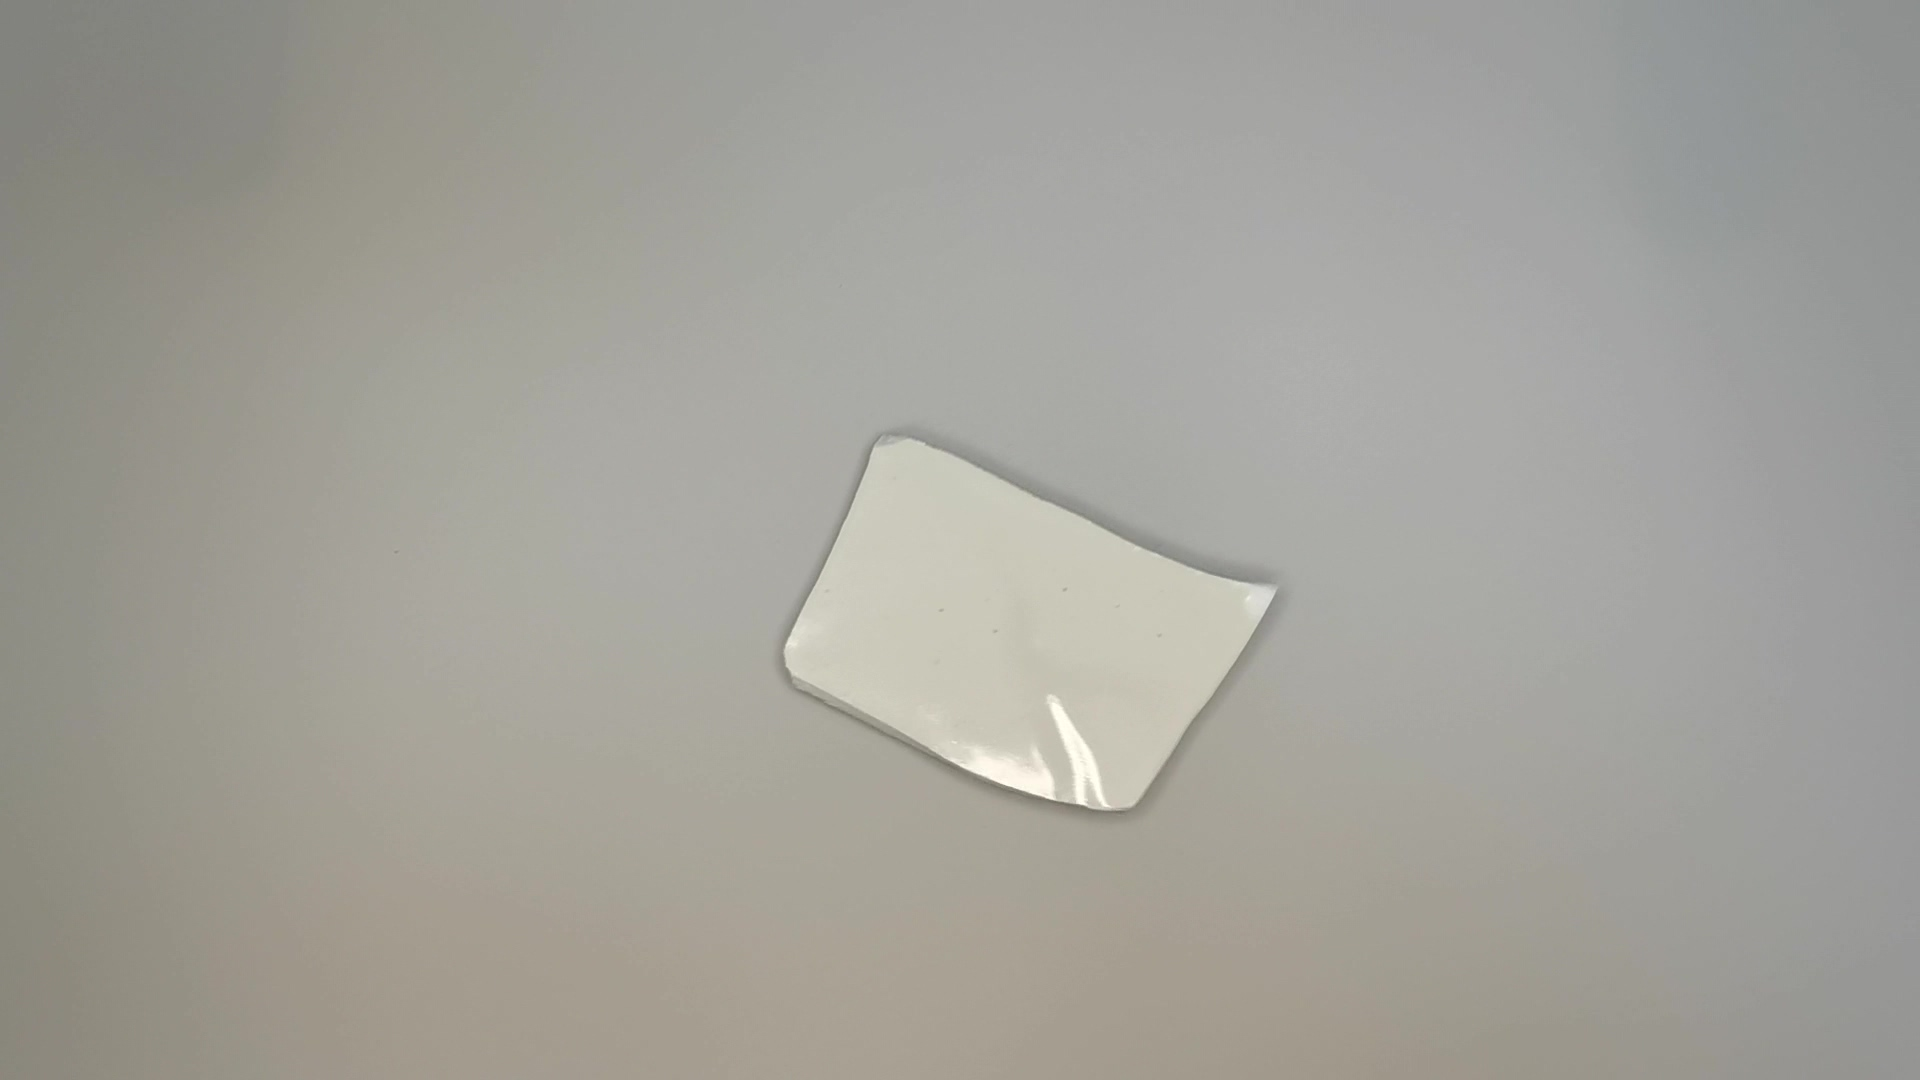ceramic: (785, 427, 1280, 822)
